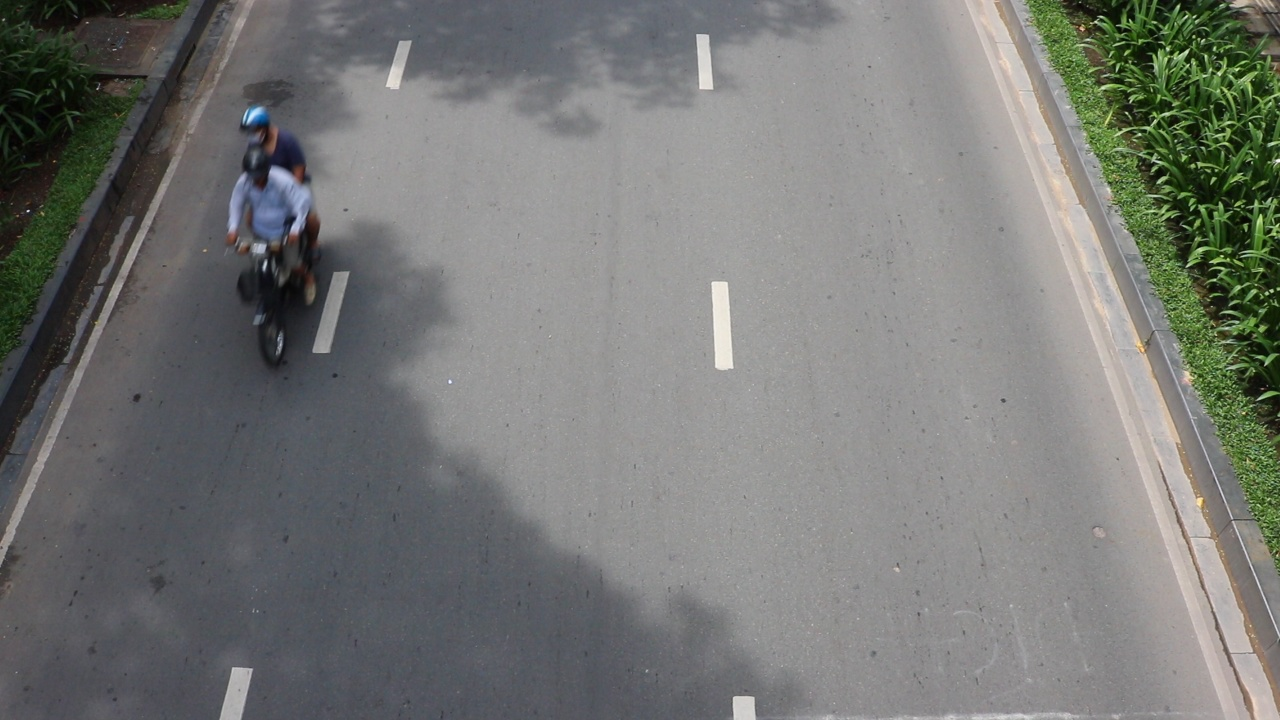motorcycle: (232, 228, 309, 364)
